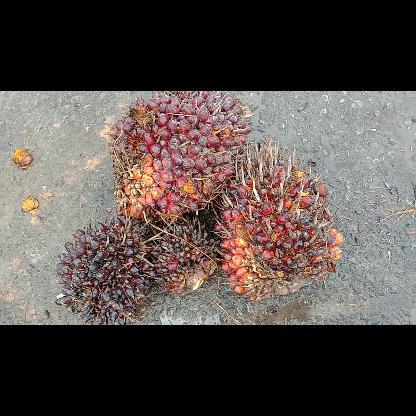TBS abnormal: (52, 220, 158, 324), (143, 215, 219, 297)
TBS masak: (214, 136, 346, 302), (106, 92, 252, 226)
